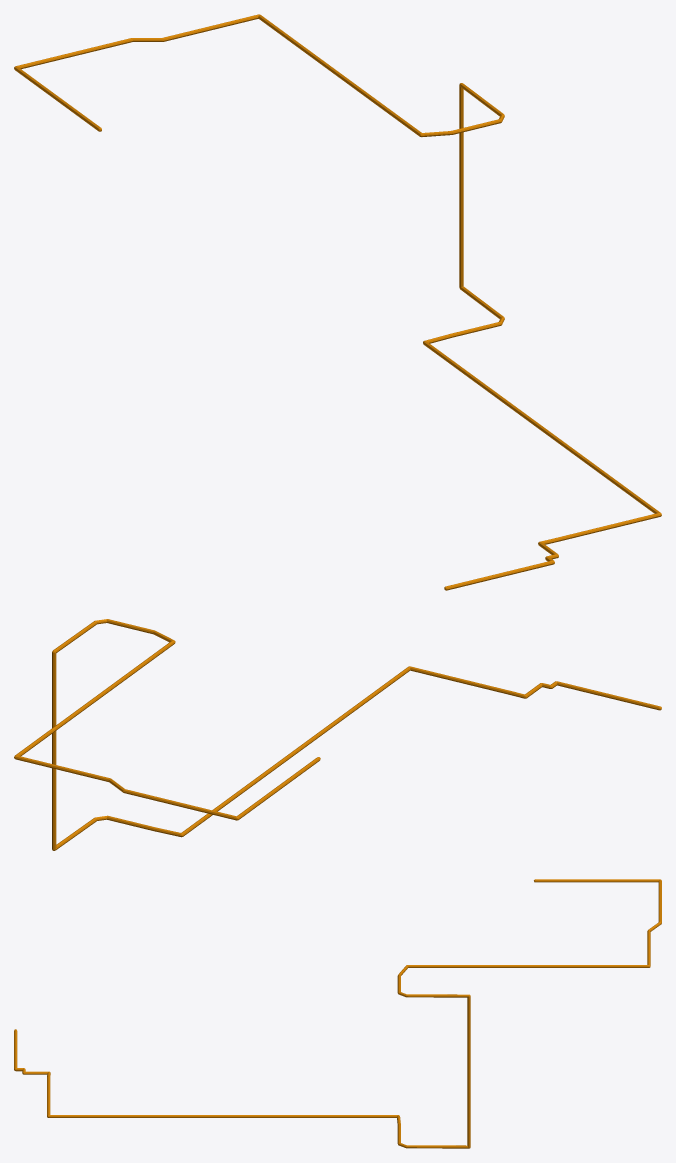
3 renders of one model, top to bottom at view 1: azimuth 30°, elevation 25°; view 2: azimuth 150°, elevation 25°; view 3: azimuth 270°, elevation 25°, orthographic. The views are drawn at different scales.
Bounding box in the file's own units: 1670 × 1020 × 3891.
